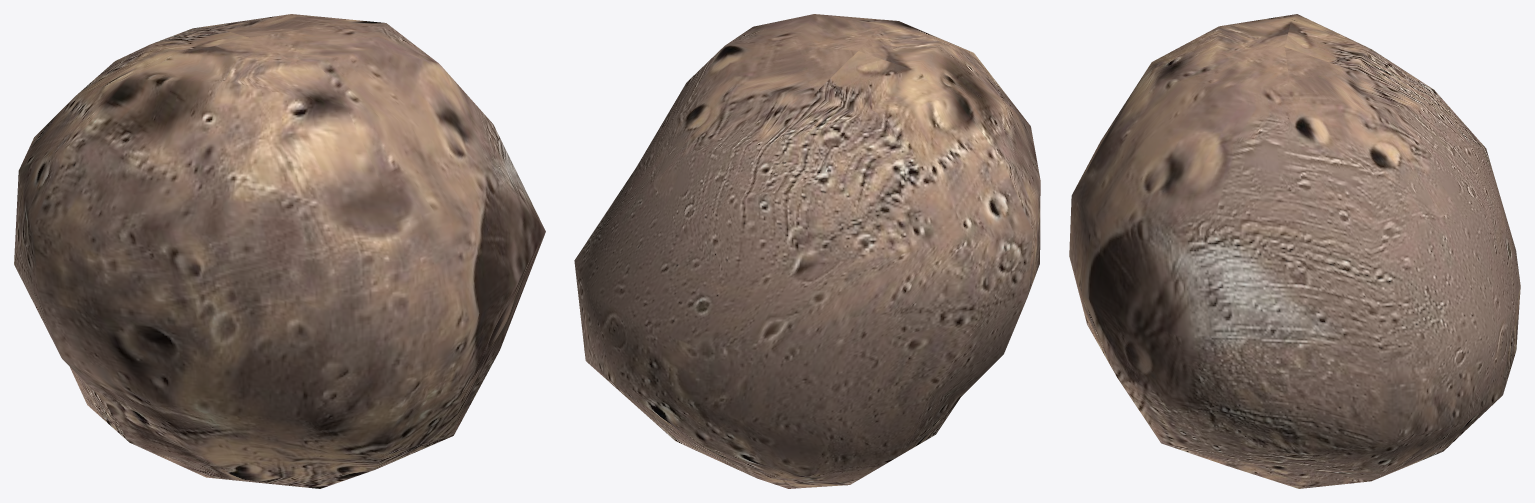
The model's file is AsteroidSmall-2.FBX.
3 renders of one model, left to right at view 1: azimuth 30°, elevation 25°; view 2: azimuth 150°, elevation 25°; view 3: azimuth 270°, elevation 25°, orthographic. The views are drawn at different scales.
Parts seen in each view (by area): view 1: AsteroidSmall2; view 2: AsteroidSmall2; view 3: AsteroidSmall2.
Part boxes in pixels (x1=…): AsteroidSmall2: x1=14, y1=14, x2=545, y2=488; AsteroidSmall2: x1=574, y1=14, x2=1040, y2=488; AsteroidSmall2: x1=1069, y1=14, x2=1520, y2=488.
Bounding box in the file's own units: 1.15 × 1.12 × 1.12.
